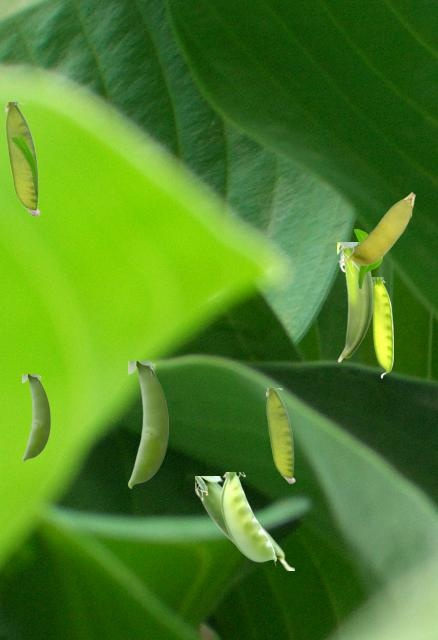pea: (195, 476, 293, 569), (338, 192, 414, 264), (220, 472, 275, 566), (128, 361, 167, 487), (337, 242, 373, 361), (5, 102, 39, 215), (266, 388, 294, 482), (22, 374, 49, 461), (372, 277, 392, 377)
